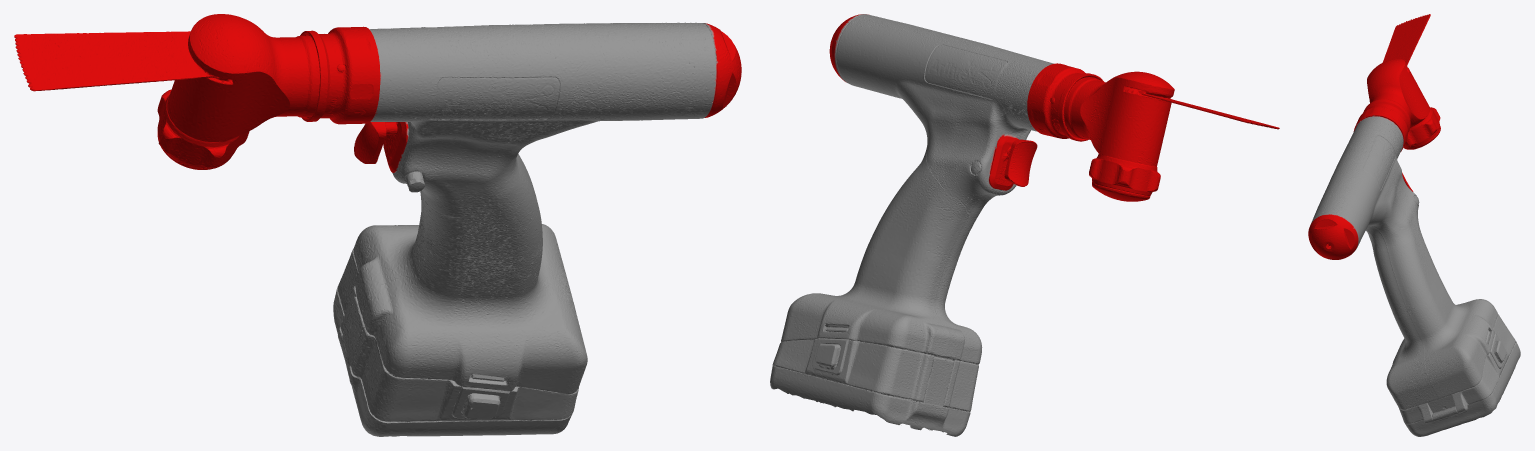
Rendered from taxonomy_22_specular.glb.
The picture shows the model from 3 angles, left to right: view 1: azimuth 30°, elevation 25°; view 2: azimuth 150°, elevation 25°; view 3: azimuth 270°, elevation 25°; orthographic projection. The views are drawn at different scales.
Parts seen in each view (by area): view 1: world; view 2: world; view 3: world.
Part boxes in pixels (x1=…): world: x1=14, y1=14, x2=741, y2=436; world: x1=770, y1=14, x2=1279, y2=436; world: x1=1308, y1=14, x2=1520, y2=436.
Bounding box in the file's own units: 284 × 217 × 148.
